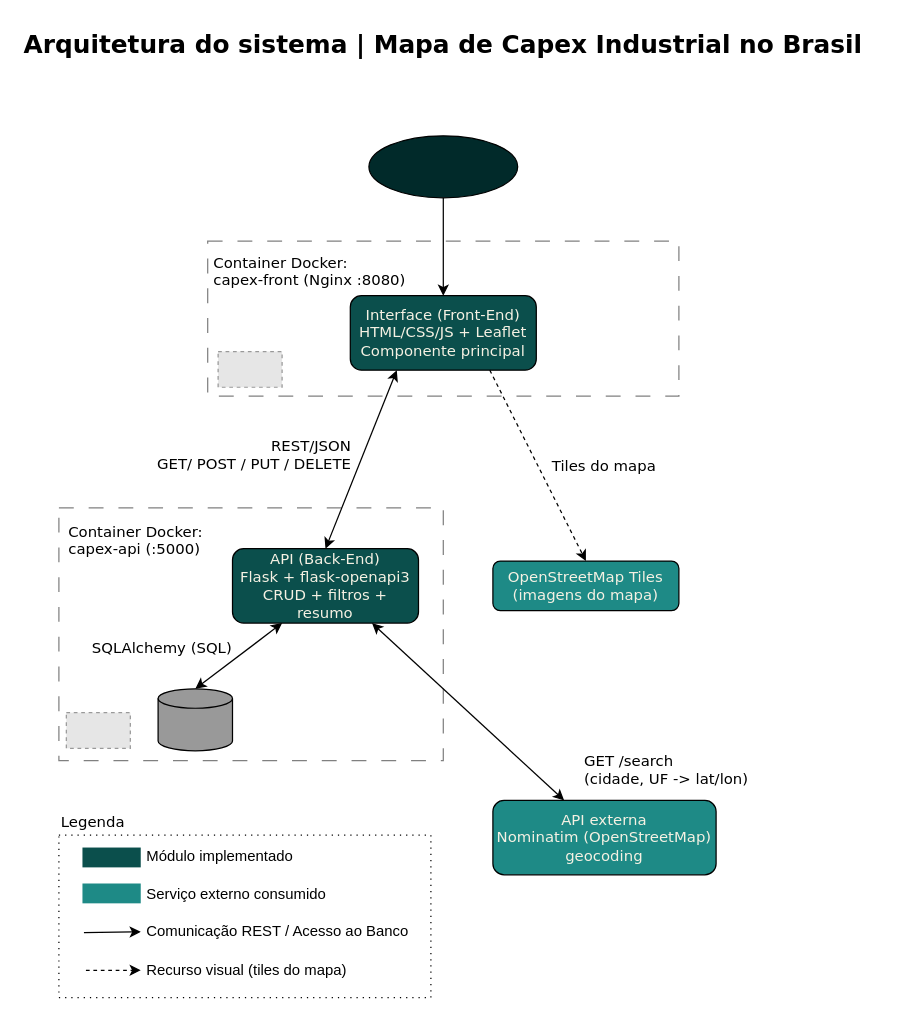
This 919x1019 diagram has some shape labels left out. Grey dashed boxes stand in for pictures. Here are the shapes that lost their labels. From the top down, the centre of each, then its label:
point 443,166: Usuário
point 194,719: SQLite
